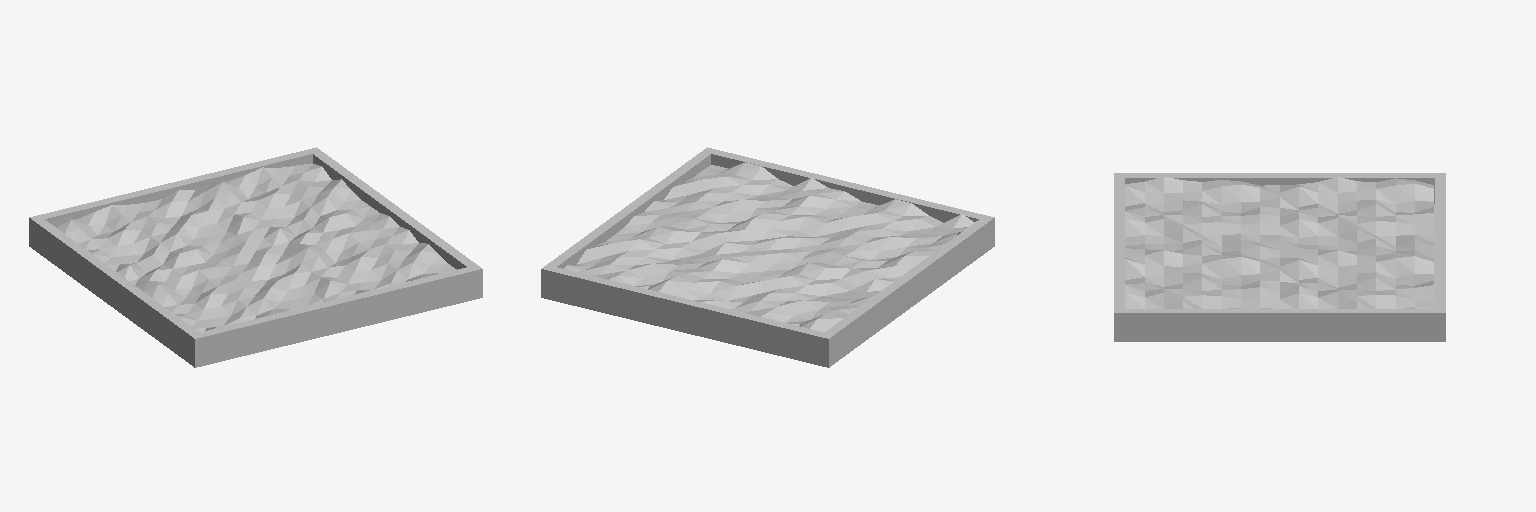
The model's file is MapAR6.obj.
3 views of the same model, side by side, from view 1: azimuth 30°, elevation 25°; view 2: azimuth 150°, elevation 25°; view 3: azimuth 270°, elevation 25° (orthographic).
Parts seen in each view (by area): view 1: Plane_Plane.003; view 2: Plane_Plane.003; view 3: Plane_Plane.003.
Part boxes in pixels (bbox=[...]): Plane_Plane.003: bbox=[29, 147, 482, 367]; Plane_Plane.003: bbox=[541, 147, 994, 367]; Plane_Plane.003: bbox=[1114, 173, 1445, 341].
Size of the model in its own units: 7.6 by 0.8167 by 7.6.